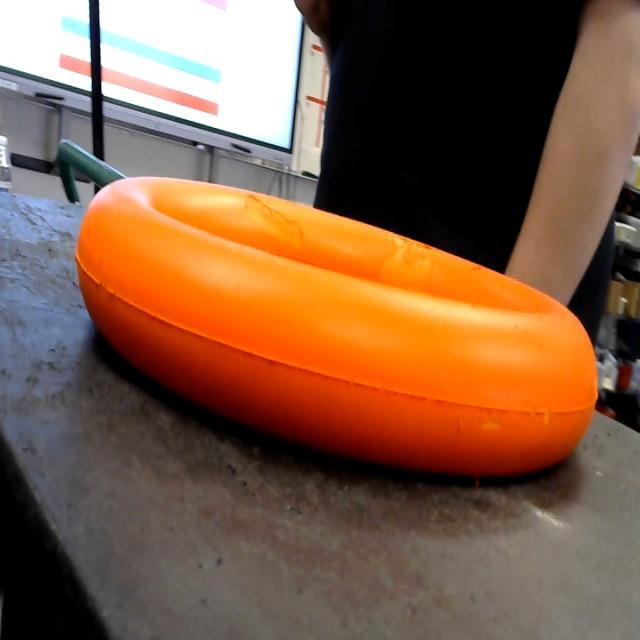note: (67, 135, 610, 494)
